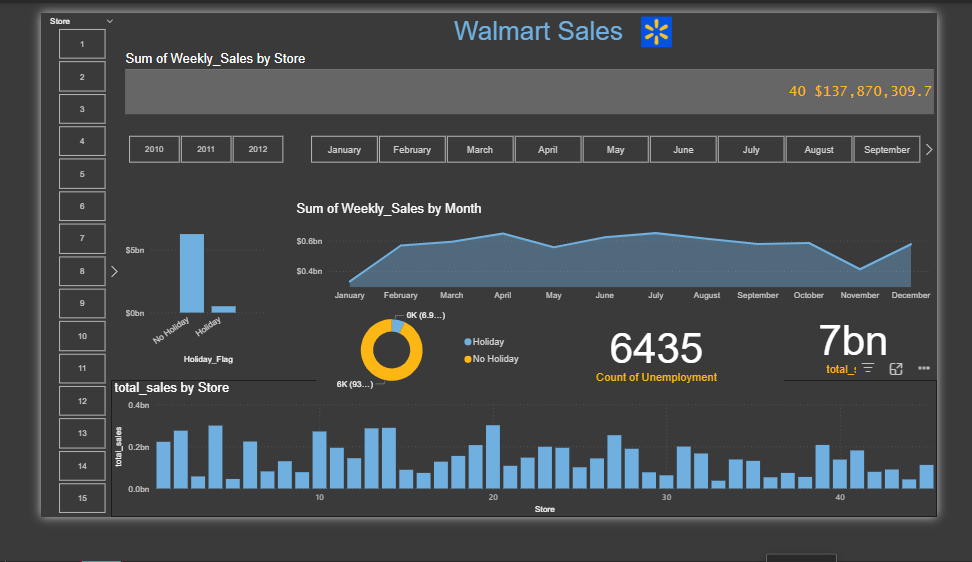

The page's visual inventory and layout, read from the dashboard file:
{"tool":"powerbi","page":{"name":"Page 1","canvas":[1280,720],"ordinal":0},"visuals":[{"type":"card","fields":{"Values":["Walmart_Sales.total_sales"]},"box":[1042,418,238,106],"z":0},{"type":"slicer","fields":{"Values":["dem store.Store"]},"box":[0,0,116.1,721.4],"z":1000},{"type":"slicer","fields":{"Values":["Walmart_Sales.Date.Variation.Date Hierarchy.Year"]},"box":[100,168,270,52],"z":2000},{"type":"slicer","fields":{"Values":["Walmart_Sales.Date.Variation.Date Hierarchy.Month"]},"box":[360,168,920,52],"z":3000},{"type":"clusteredColumnChart","fields":{"Category":["dem store.Store"],"Y":["Walmart_Sales.total_sales"]},"box":[100,524,1180,196],"z":4000},{"type":"donutChart","title":"num of holiday","fields":{"Y":["Walmart_Sales.num of  holiday","Walmart_Sales.num of  no holiday"]},"box":[392.9,418.6,304.3,125.7],"z":5000},{"type":"card","fields":{"Values":["CountNonNull(Walmart_Sales.Unemployment)"]},"box":[697.1,421.4,364.3,122.9],"z":6000},{"type":"clusteredColumnChart","fields":{"Category":["Walmart_Sales.Holiday_Flag"],"Y":["Sum(Walmart_Sales.Weekly_Sales)"]},"box":[116,270,210,236],"z":7000},{"type":"areaChart","fields":{"Category":["Walmart_Sales.Date.Variation.Date Hierarchy.Month"],"Y":["Sum(Walmart_Sales.Weekly_Sales)"]},"box":[360,268,920,150],"z":8000},{"type":"textbox","box":[115.7,0,751.8,54.9],"z":9000},{"type":"image","box":[744.3,0,270,54.3],"z":10000},{"type":"ScrollingTextVisual1448795304508","fields":{"Category":["dem store.Store"],"Measure Absolute":["Sum(Walmart_Sales.Weekly_Sales)"]},"box":[115.7,54.9,1163.9,95.4],"z":10001}]}

Visuals, with their boxes in screenshot pixels (x1, y1, x2, y2), scaled from the page's 1280x720 canvas onto the 972x562 screenshot:
card - Walmart_Sales.total_sales: left=791, top=326, right=971, bottom=409
slicer - dem store.Store: left=0, top=0, right=88, bottom=561
slicer - Walmart_Sales.Date.Variation.Date Hierarchy.Year: left=76, top=131, right=281, bottom=172
slicer - Walmart_Sales.Date.Variation.Date Hierarchy.Month: left=273, top=131, right=971, bottom=172
clusteredColumnChart - dem store.Store x Walmart_Sales.total_sales: left=76, top=409, right=971, bottom=561
"num of holiday" donutChart: left=298, top=327, right=529, bottom=425
card - CountNonNull(Walmart_Sales.Unemployment): left=529, top=329, right=806, bottom=425
clusteredColumnChart - Walmart_Sales.Holiday_Flag x Sum(Walmart_Sales.Weekly_Sales): left=88, top=211, right=248, bottom=395
areaChart - Walmart_Sales.Date.Variation.Date Hierarchy.Month x Sum(Walmart_Sales.Weekly_Sales): left=273, top=209, right=971, bottom=326
textbox: left=88, top=0, right=659, bottom=43
image: left=565, top=0, right=770, bottom=42
ScrollingTextVisual1448795304508 - dem store.Store x Sum(Walmart_Sales.Weekly_Sales): left=88, top=43, right=971, bottom=117
